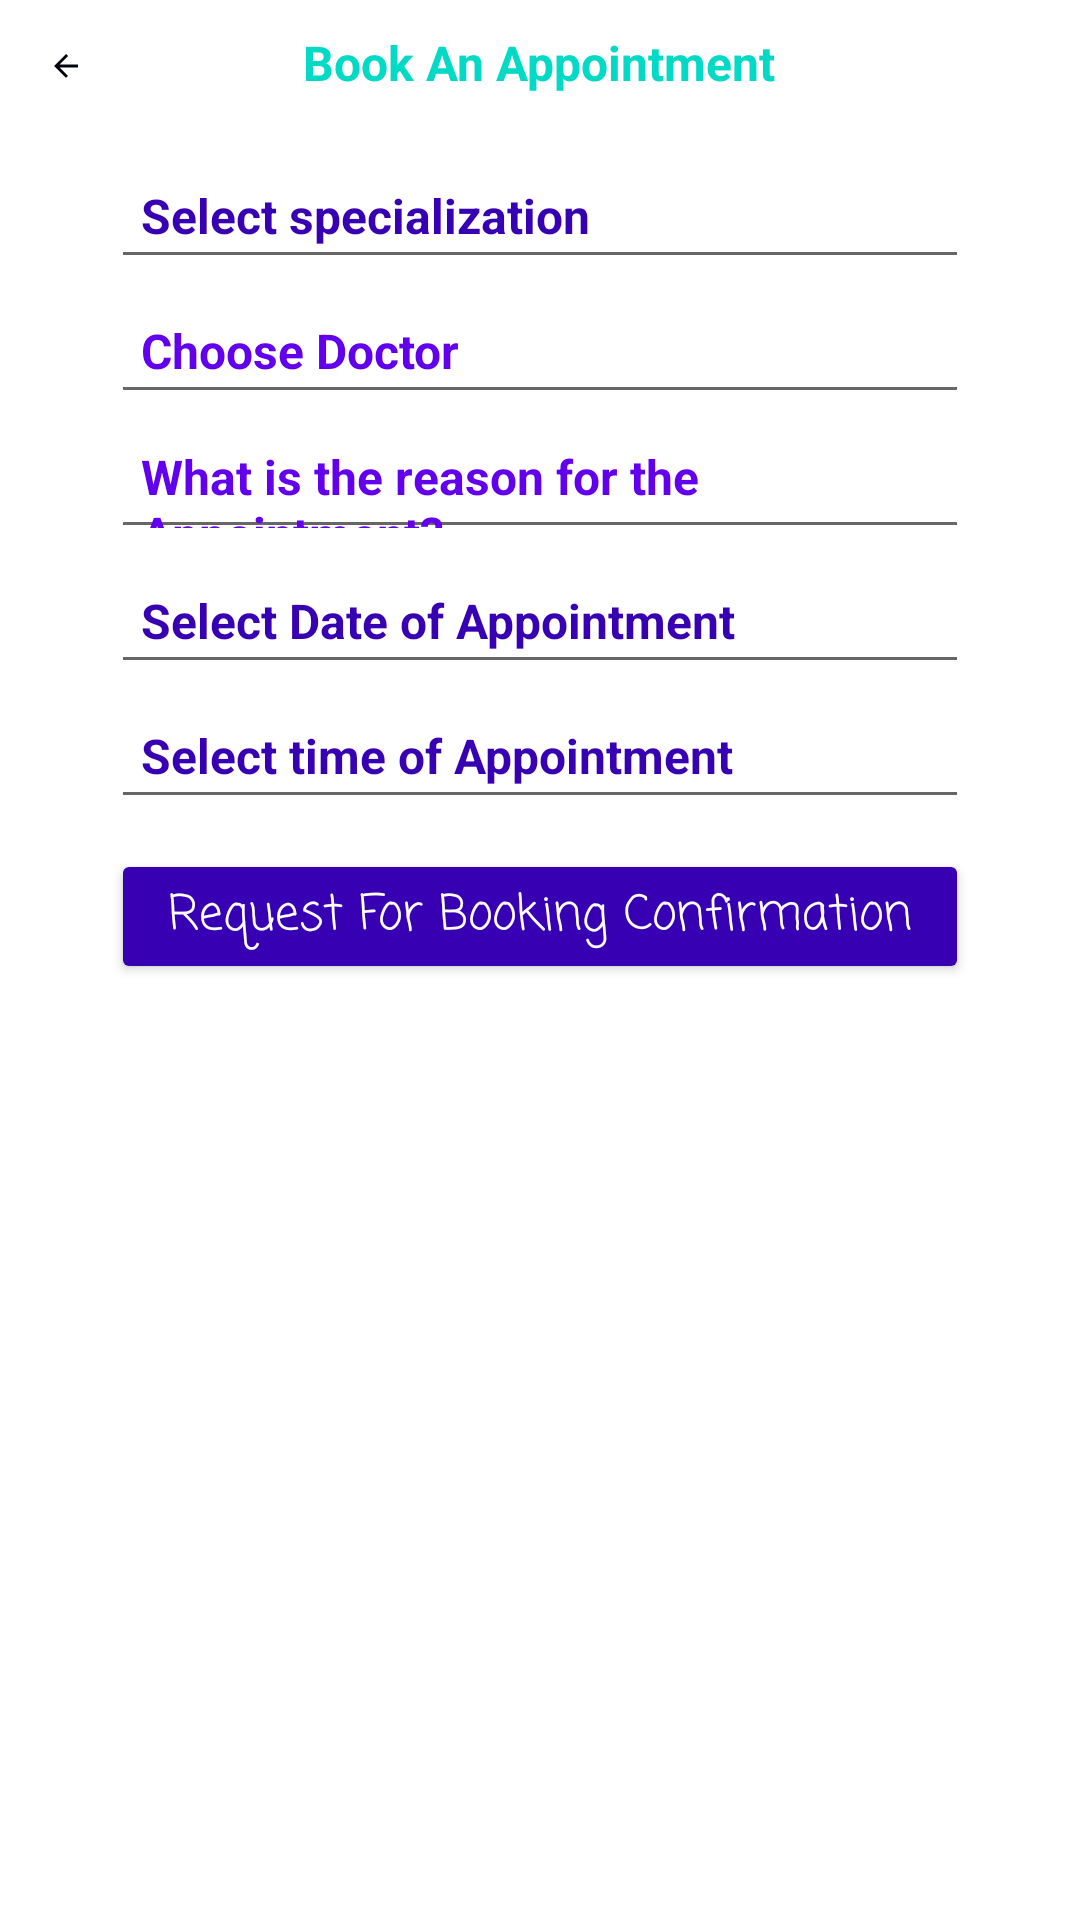

Where to tap for icons on this 1080×1920 app screen, as [x,y]:
back: [66,66]
